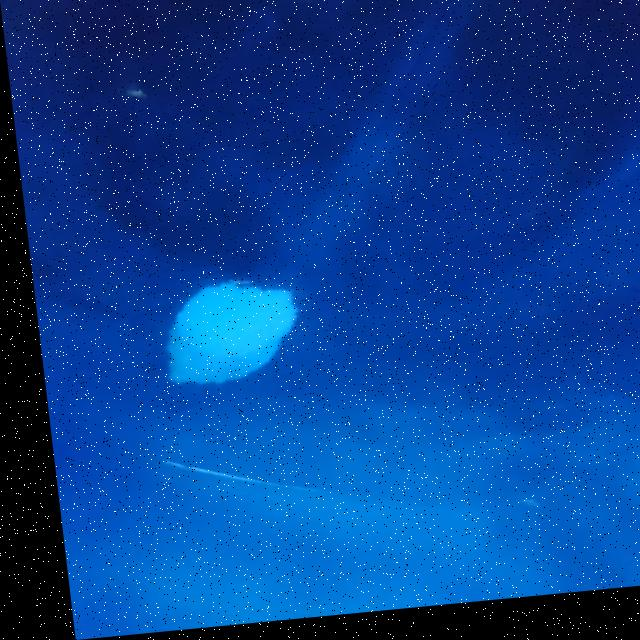thermocoal: (118, 261, 327, 411)
